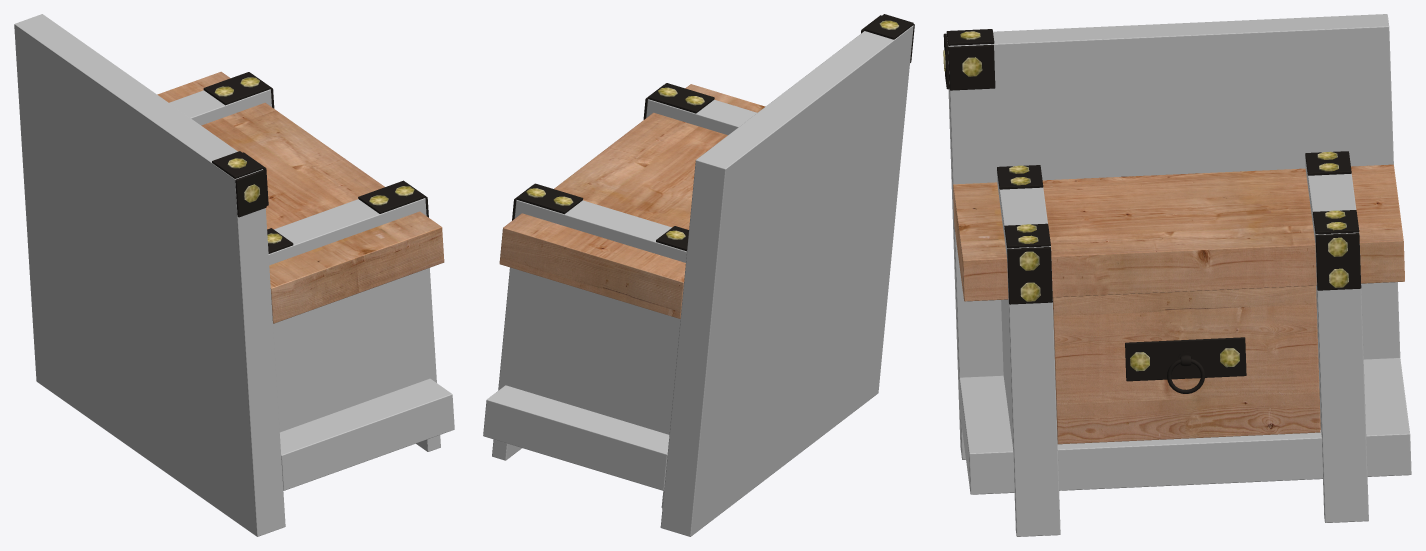
File: Chest.fbx
3 views of the same model, side by side, from view 1: azimuth 30°, elevation 25°; view 2: azimuth 150°, elevation 25°; view 3: azimuth 270°, elevation 25° (orthographic). The views are drawn at different scales.
Parts seen in each view (by area): view 1: Yaziko Bedside Table N171123; view 2: Yaziko Bedside Table N171123; view 3: Yaziko Bedside Table N171123.
Boxes of the visible parts, box(x1,y1,x2,y2) form: Yaziko Bedside Table N171123: box(14, 14, 454, 536); Yaziko Bedside Table N171123: box(483, 14, 914, 536); Yaziko Bedside Table N171123: box(943, 14, 1411, 536).
Bounding box in the file's own units: 4322 × 6180 × 6359.
